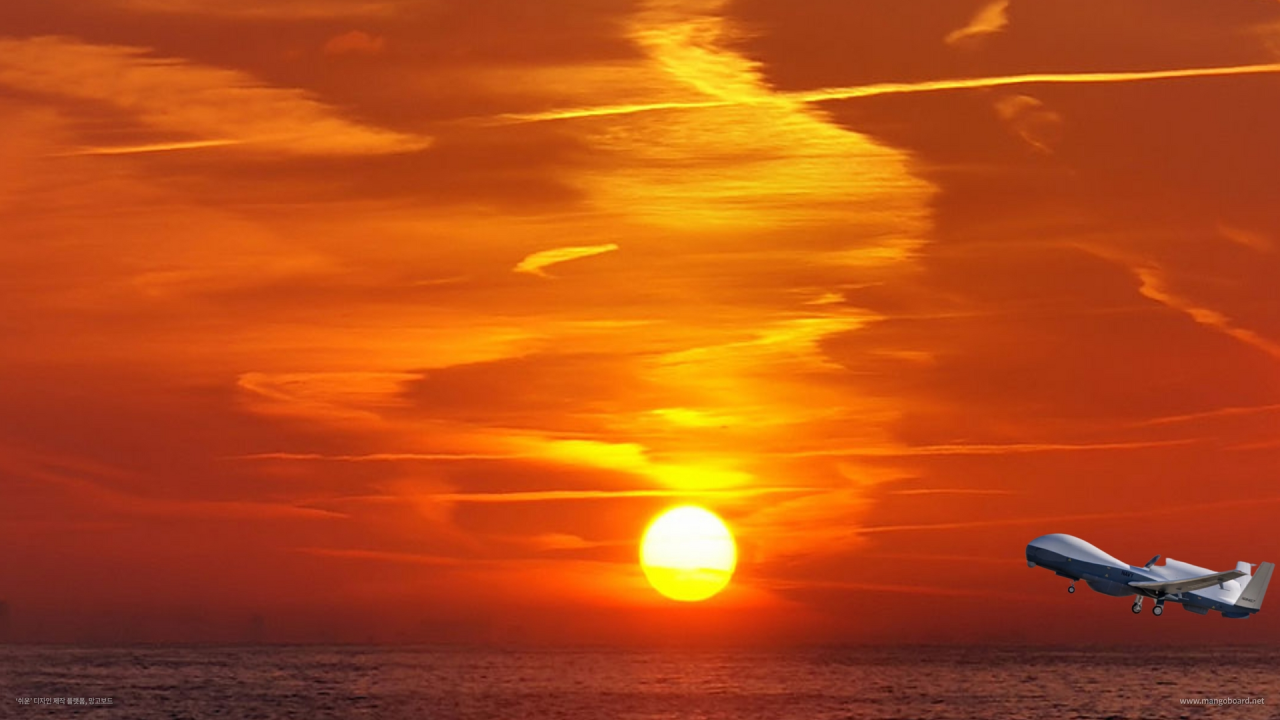military drone: (1023, 531, 1275, 620)
